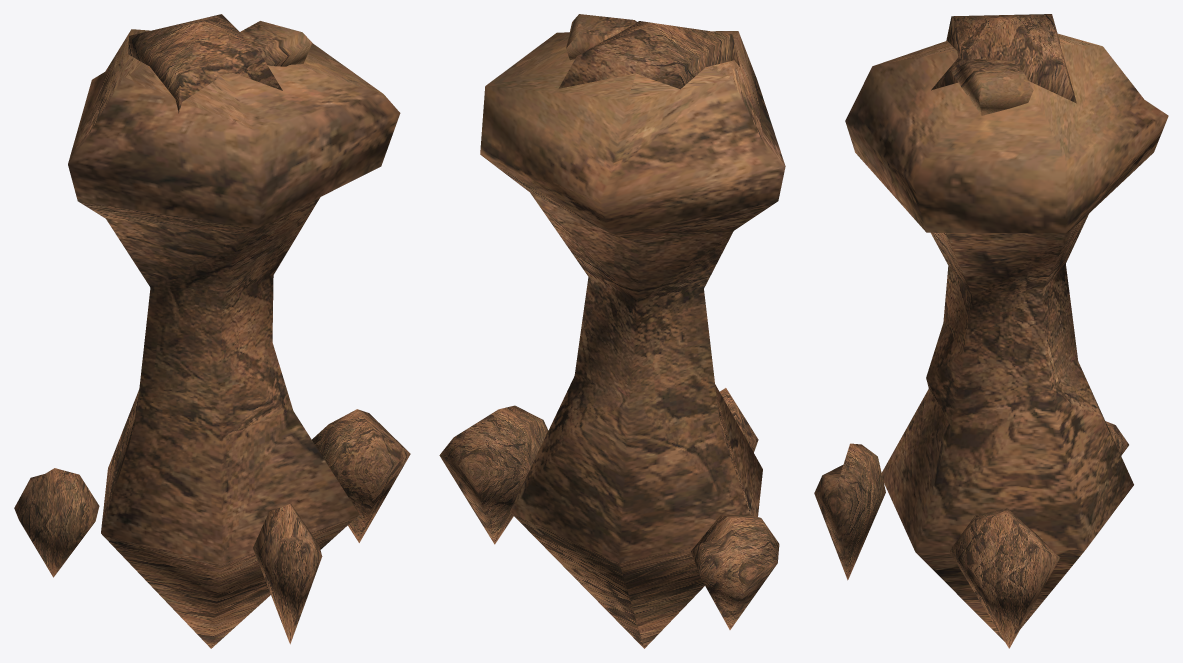
The model's file is rock_tatt_mushroom_l3.fbx.
3 renders of one model, left to right at view 1: azimuth 30°, elevation 25°; view 2: azimuth 150°, elevation 25°; view 3: azimuth 270°, elevation 25°, orthographic.
Parts seen in each view (by area): view 1: mesh_node; view 2: mesh_node; view 3: mesh_node.
Part boxes in pixels (<box>): mesh_node: <box>14,14,410,648</box>; mesh_node: <box>439,14,785,648</box>; mesh_node: <box>814,14,1168,648</box>.
Size of the model in its own units: 28.97 by 49.51 by 25.67.
1 material, 1 textured.
